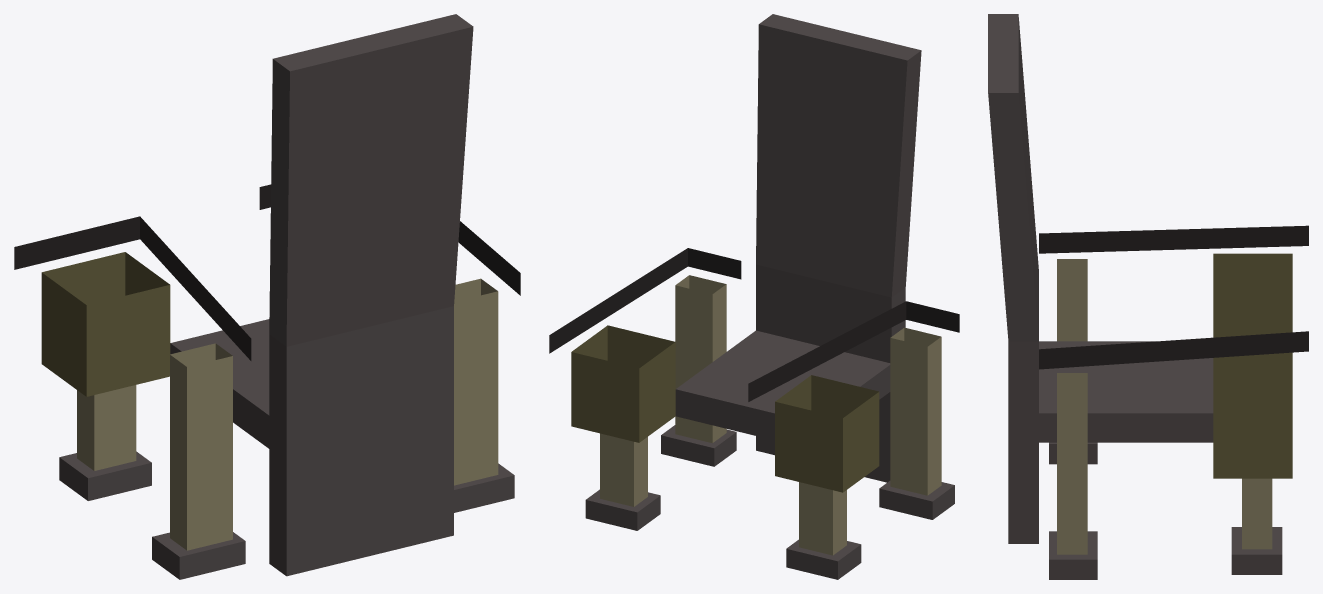
The model's file is obj_throne_6_0.obj.
3 renders of one model, left to right at view 1: azimuth 30°, elevation 25°; view 2: azimuth 150°, elevation 25°; view 3: azimuth 270°, elevation 25°, orthographic. The views are drawn at different scales.
Size of the model in its own units: 1.45 by 1.93 by 1.23.
